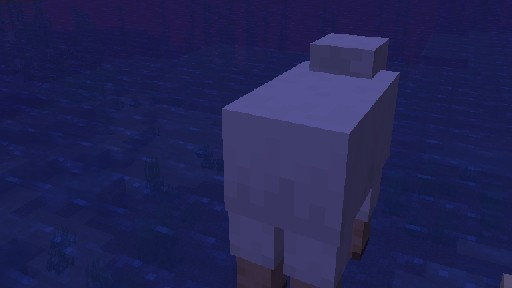sheep: (221, 32, 399, 288)
